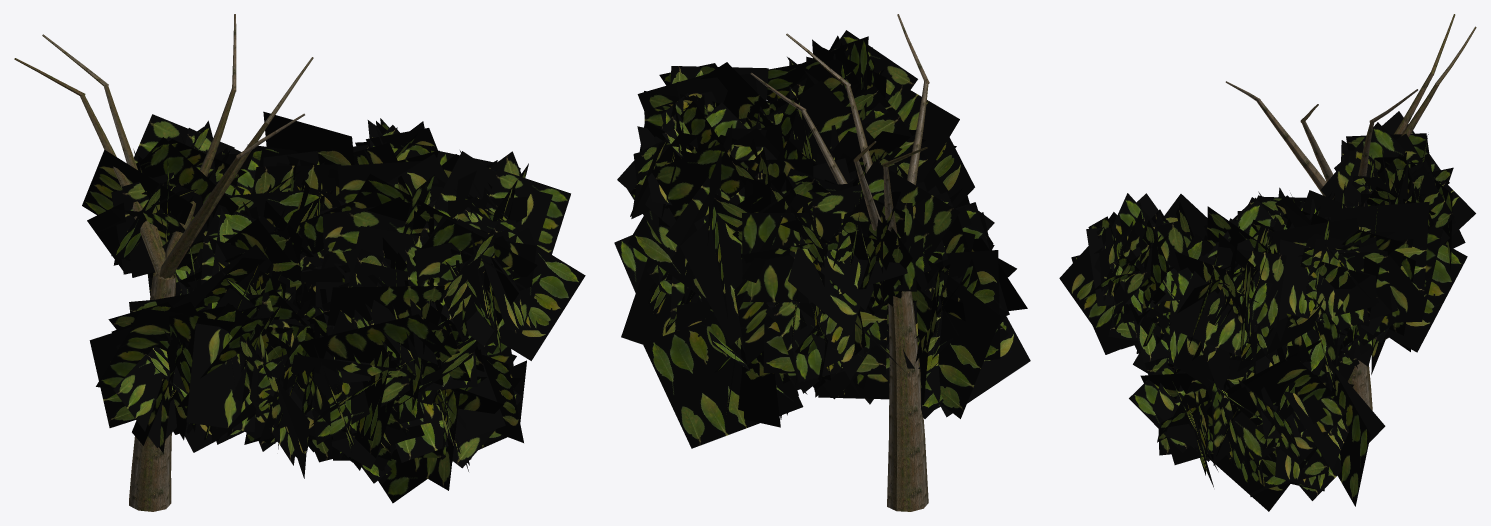
3 views of the same model, side by side, from view 1: azimuth 30°, elevation 25°; view 2: azimuth 150°, elevation 25°; view 3: azimuth 270°, elevation 25° (orthographic). The views are drawn at different scales.
Visible parts, largest first — view 1: plane; view 2: plane; view 3: plane.
Part boxes in pixels (box(x1,y1,x2,y2)): plane: box(14, 14, 585, 511); plane: box(614, 14, 1030, 511); plane: box(1059, 14, 1476, 511).
Size of the model in its own units: 11.01 by 11.01 by 10.96.
2 materials, 2 textured.
